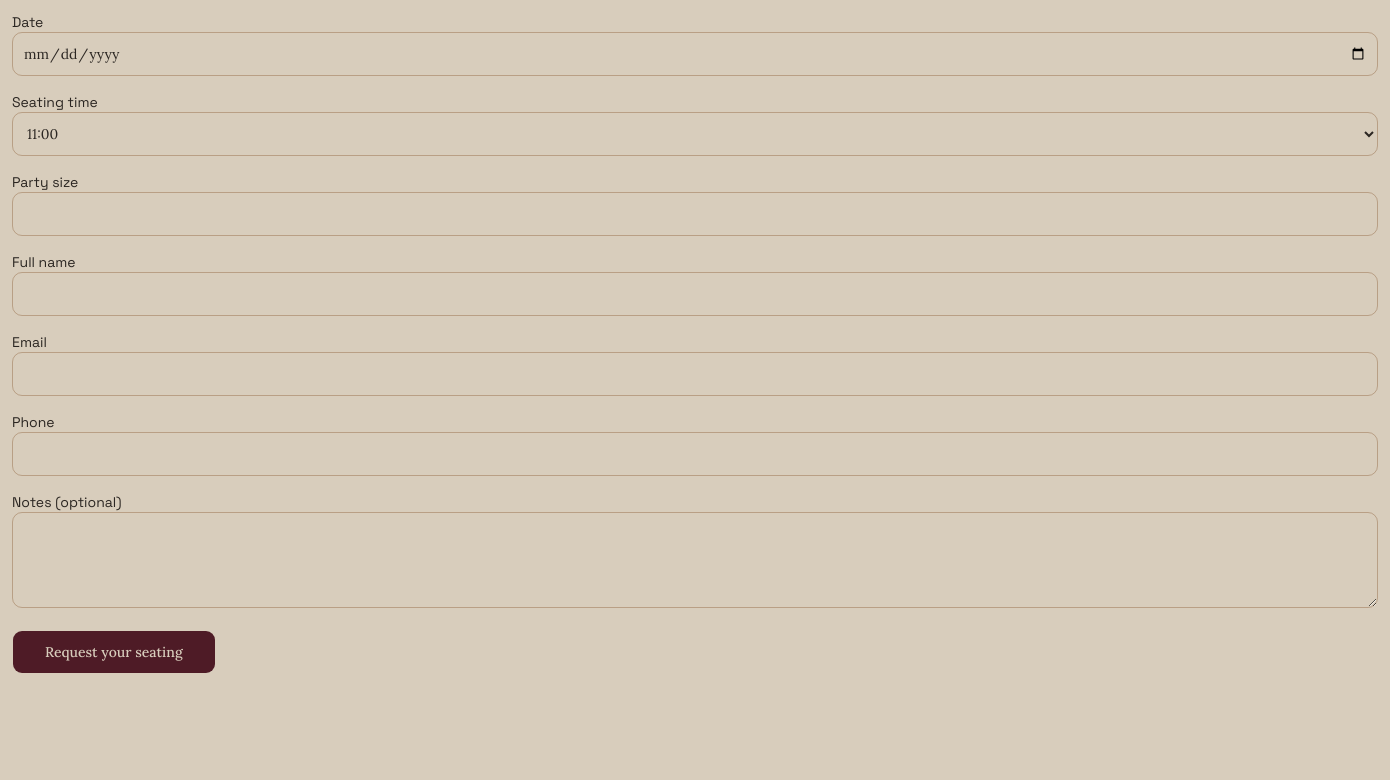
Scenario: ReservationForm › shows the no-capacity message when the party size exceeds remaining capacity
The width and height of the screenshot is (1390, 780).
Type "2026-09-17" into the date field labelled "Date". click: (695,54)
box: [12, 32, 1378, 76]
Select "11:00" in the dropdown labelled "Seating time". click: (695,134)
box: [12, 112, 1378, 156]
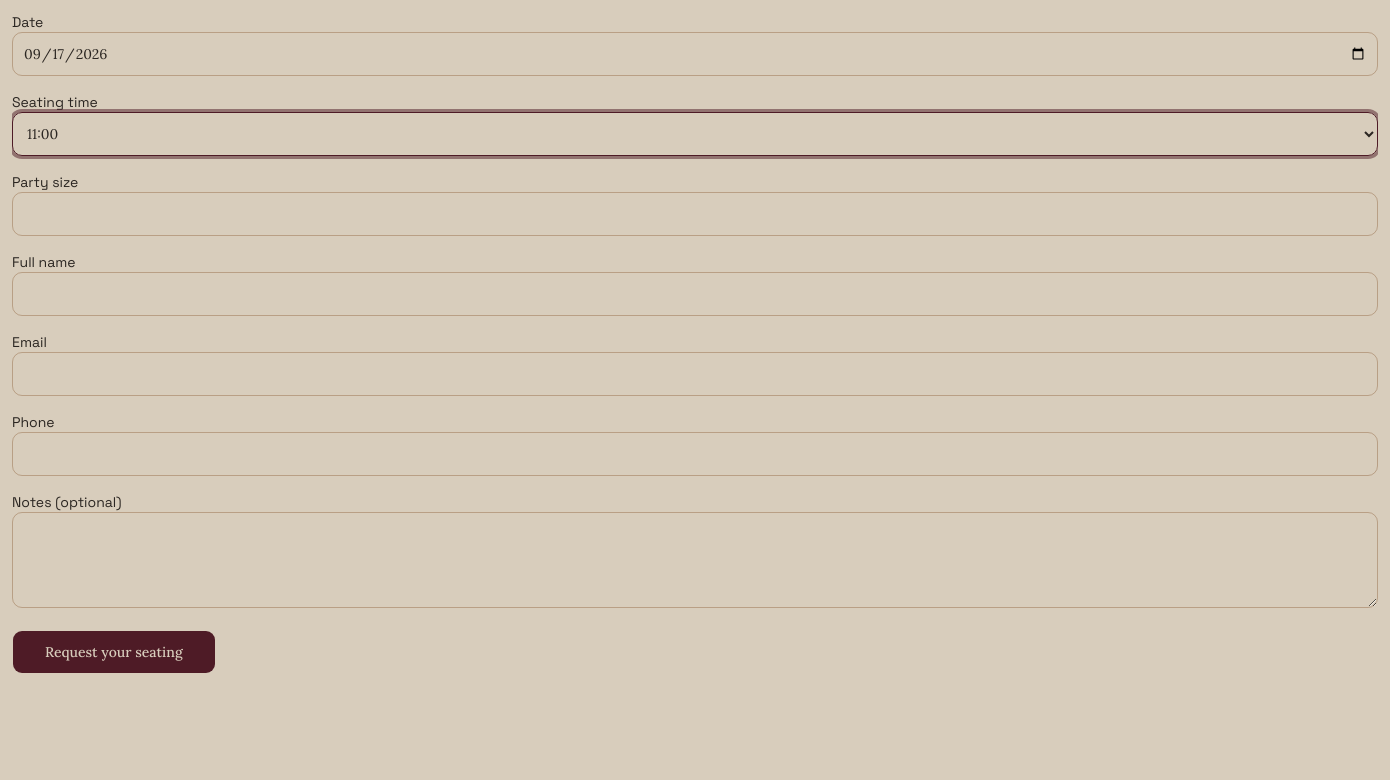
Type "4" into the number field labelled "Party size". click: (695,214)
box: [12, 192, 1378, 236]
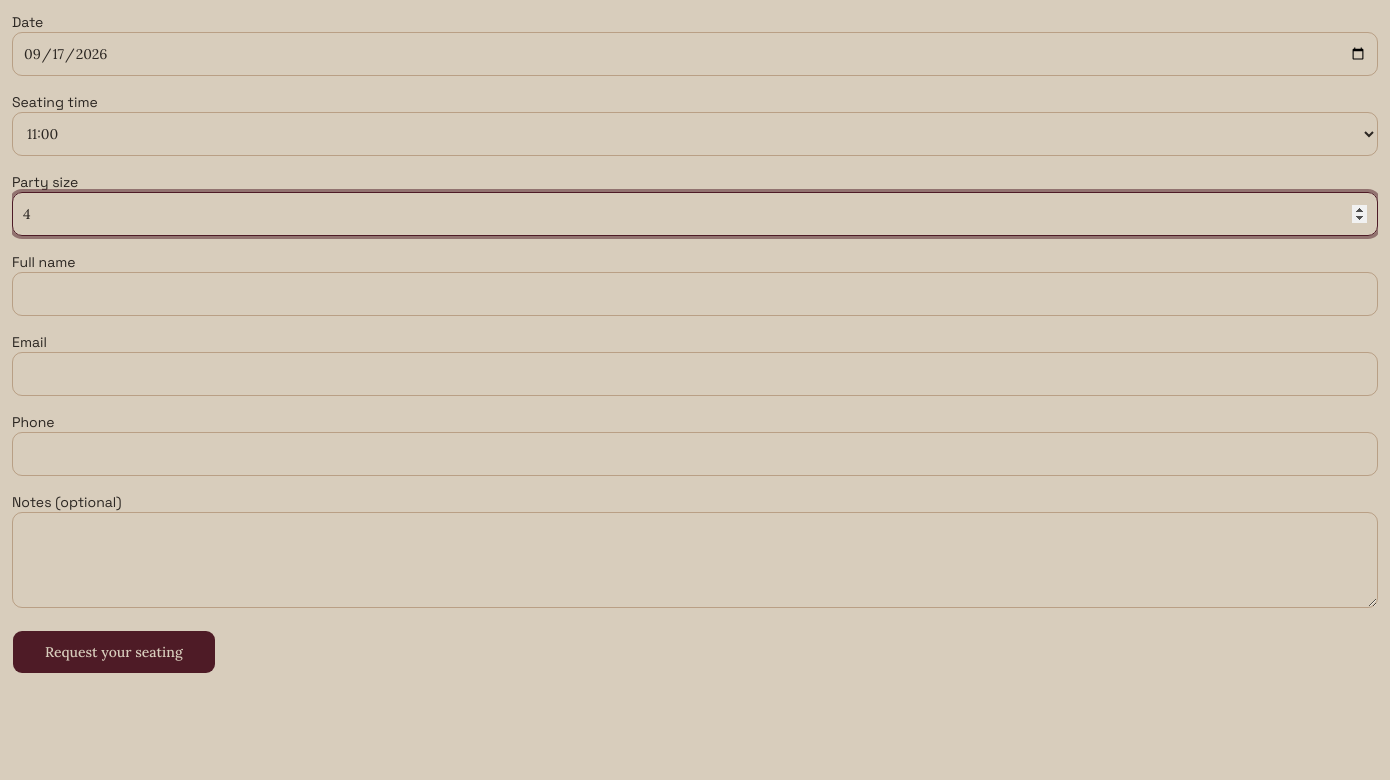
Type "Jane Doe" into the field labelled "Full name". click: (695,294)
box: [12, 272, 1378, 316]
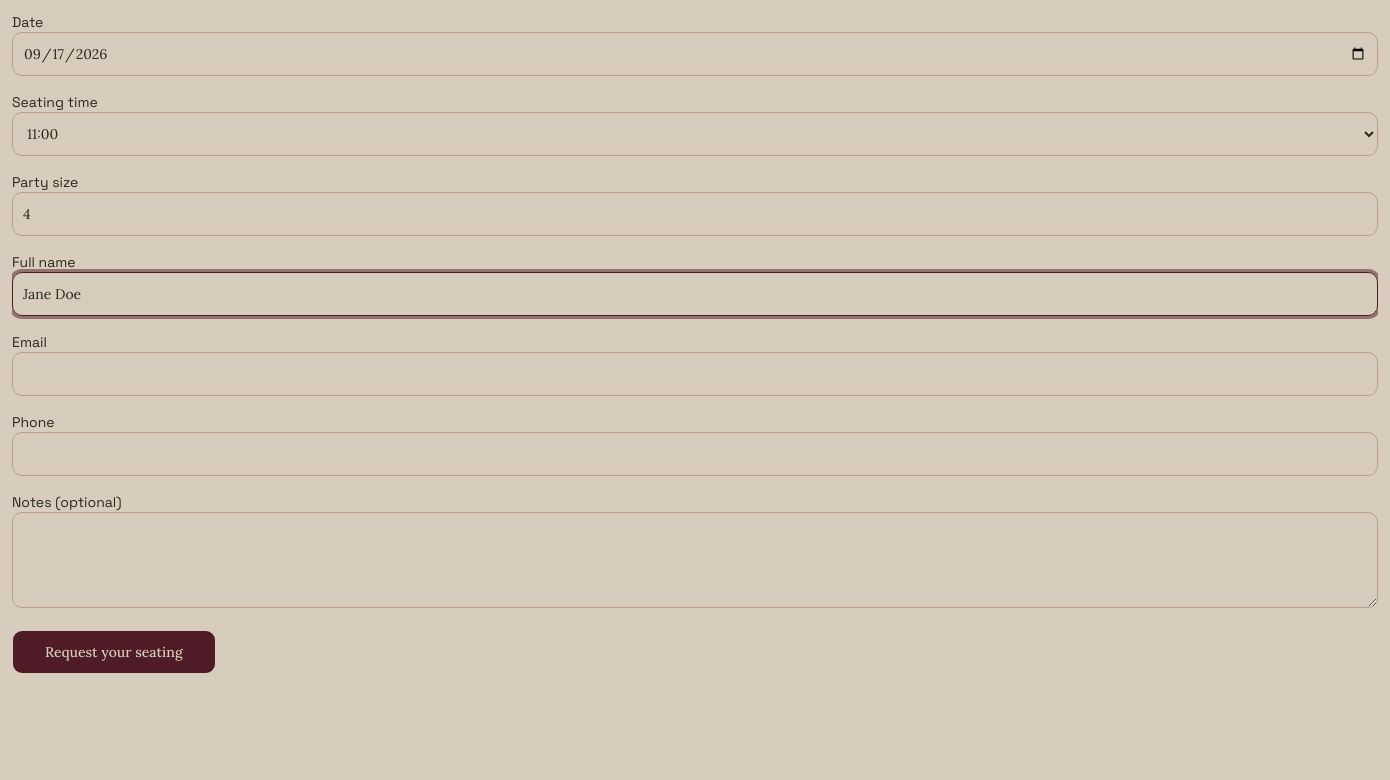
Type "jane@example.com" into the field labelled "Email". click: (695,374)
box: [12, 352, 1378, 396]
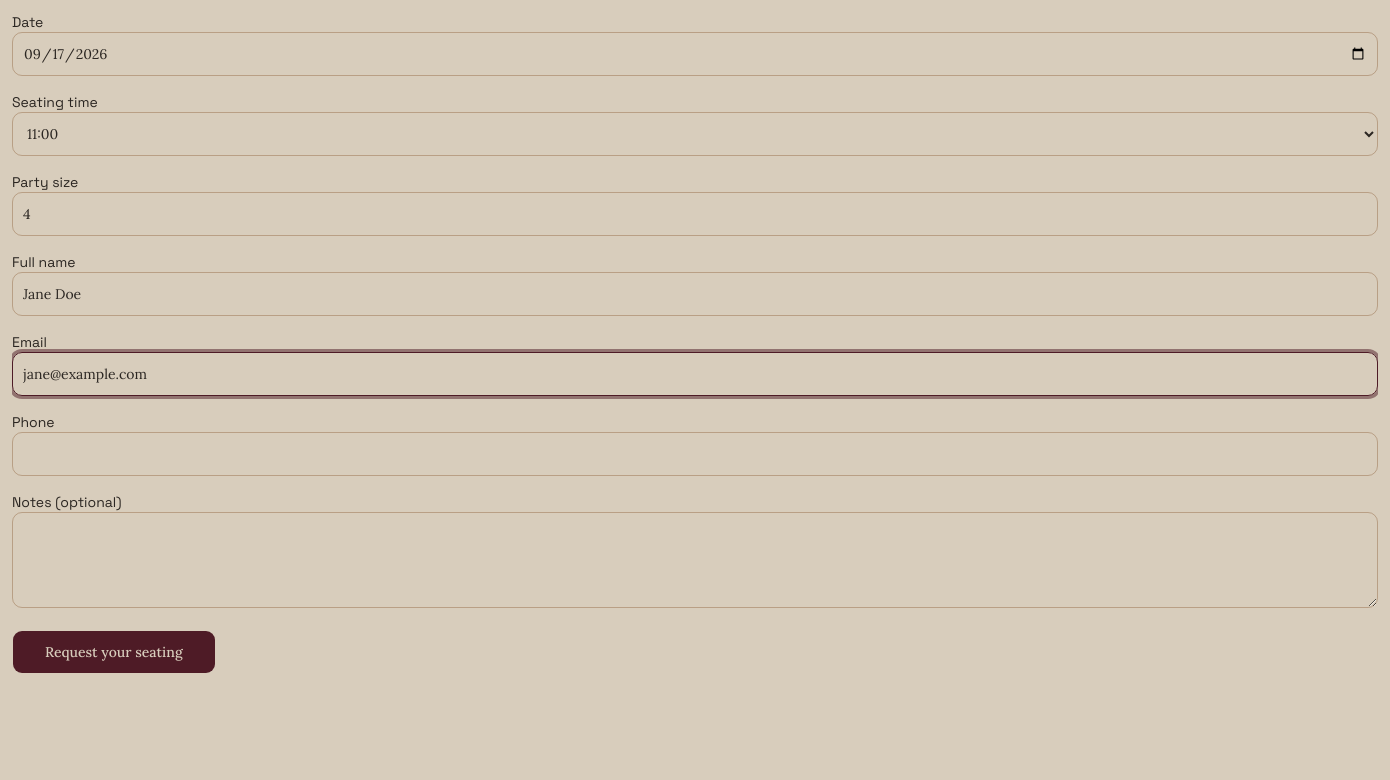
Type "+15551234567" into the field labelled "Phone". click: (695,454)
box: [12, 432, 1378, 476]
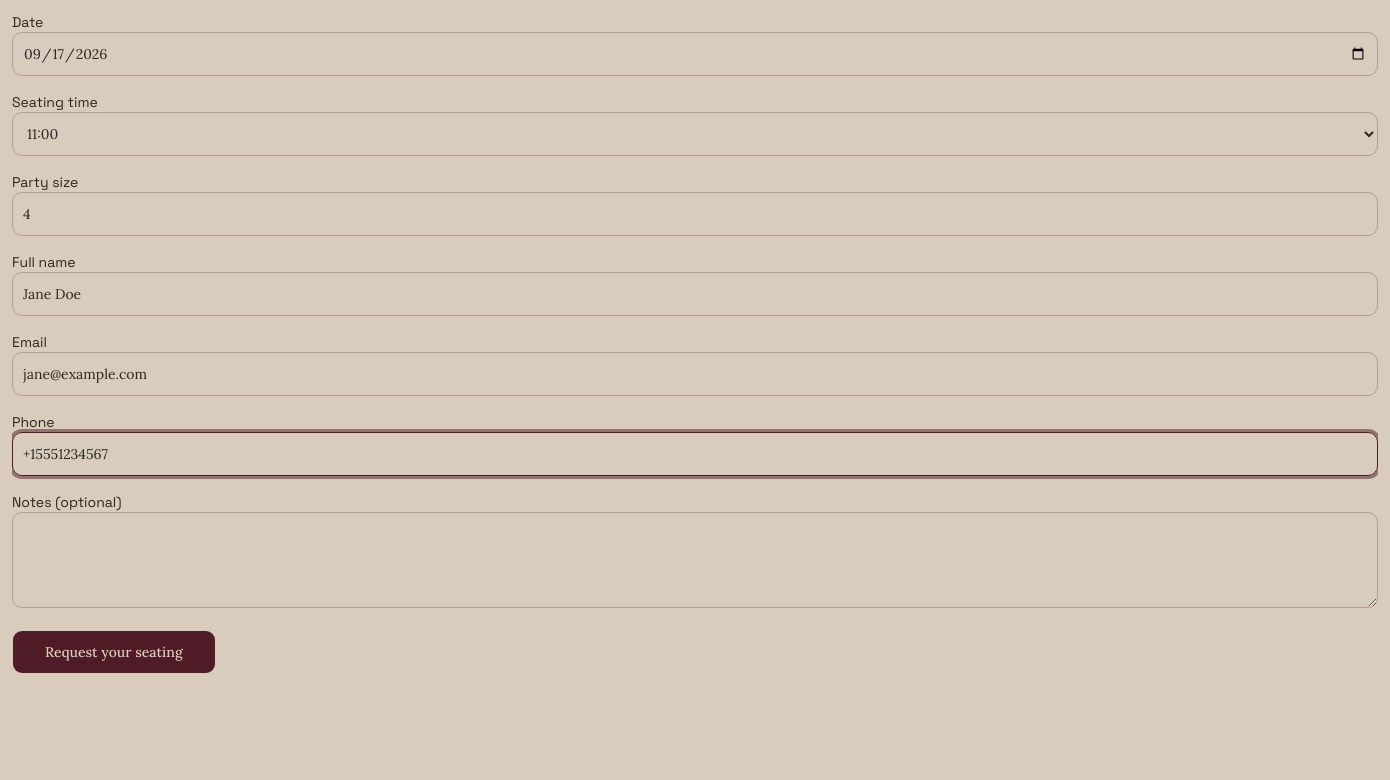
Click the button "Request your seating". click: (114,652)
box: [12, 630, 216, 674]
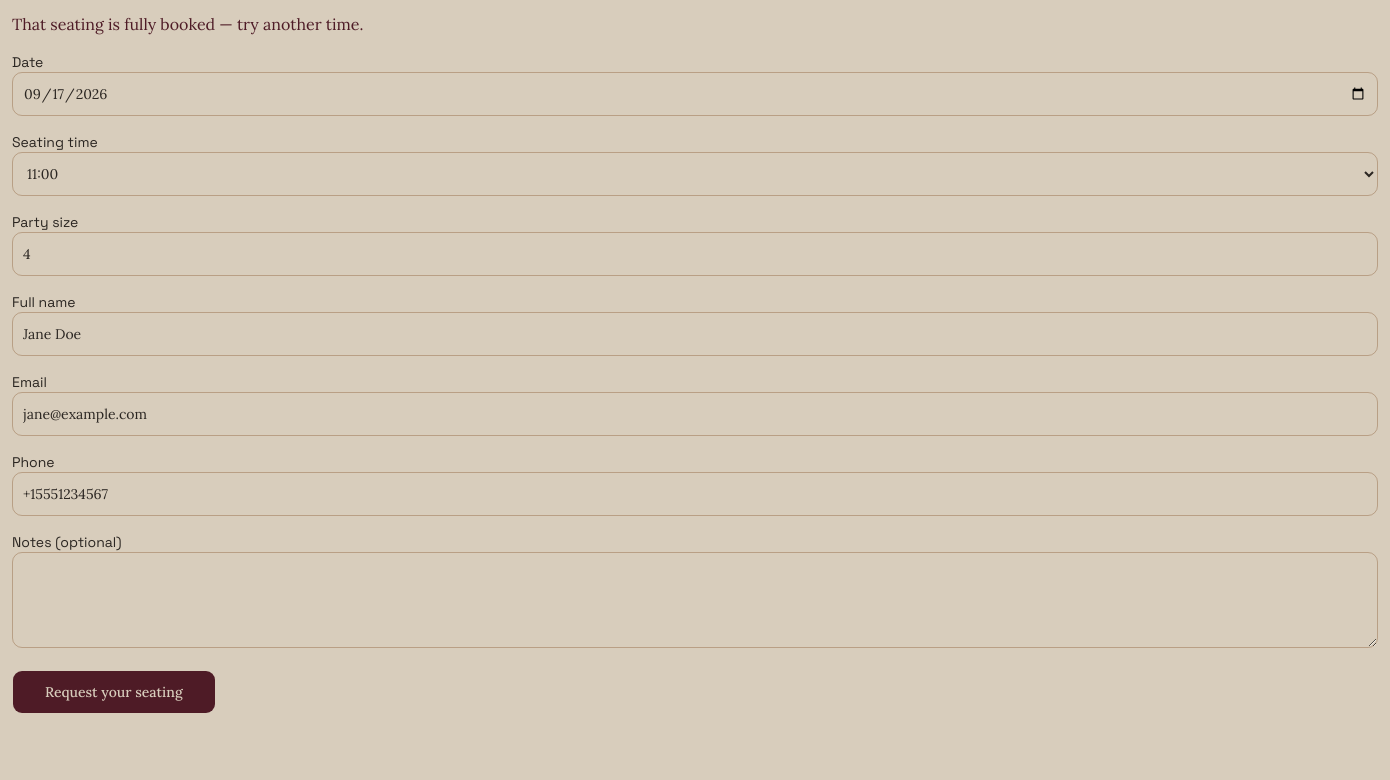
Result: the text "That seating is fully booked — try another time." is shown at [12, 14, 364, 34]
